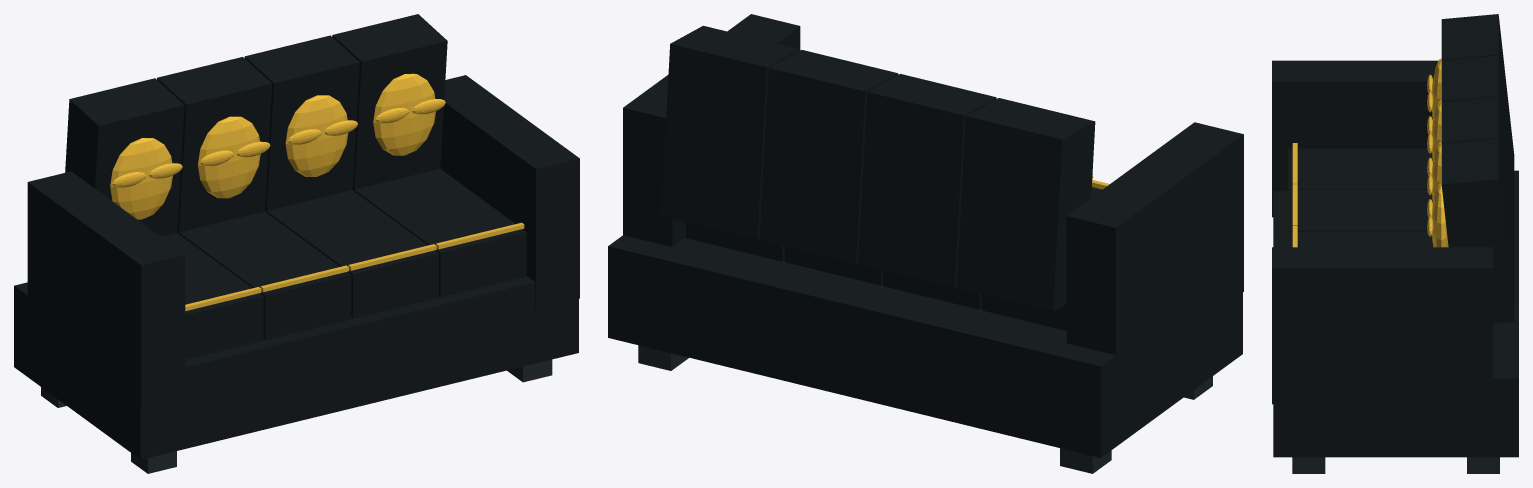
File: good.glb
3 views of the same model, side by side, from view 1: azimuth 30°, elevation 25°; view 2: azimuth 150°, elevation 25°; view 3: azimuth 270°, elevation 25° (orthographic). The views are drawn at different scales.
Parts seen in each view (by area): view 1: Armrest, Decorative cushion, Sofa foot; view 2: Armrest, Sofa foot; view 3: Armrest, Decorative cushion, Sofa foot.
Part boxes in pixels (x1=…): Armrest: x1=14, y1=14, x2=579, y2=459; Decorative cushion: x1=110, y1=73, x2=524, y2=310; Sofa foot: x1=41, y1=359, x2=552, y2=473; Armrest: x1=608, y1=14, x2=1243, y2=457; Sofa foot: x1=638, y1=345, x2=1212, y2=473; Armrest: x1=1272, y1=14, x2=1518, y2=457; Decorative cushion: x1=1292, y1=58, x2=1448, y2=247; Sofa foot: x1=1292, y1=457, x2=1499, y2=473.
Size of the model in its own units: 2 by 1.27 by 1.01.
